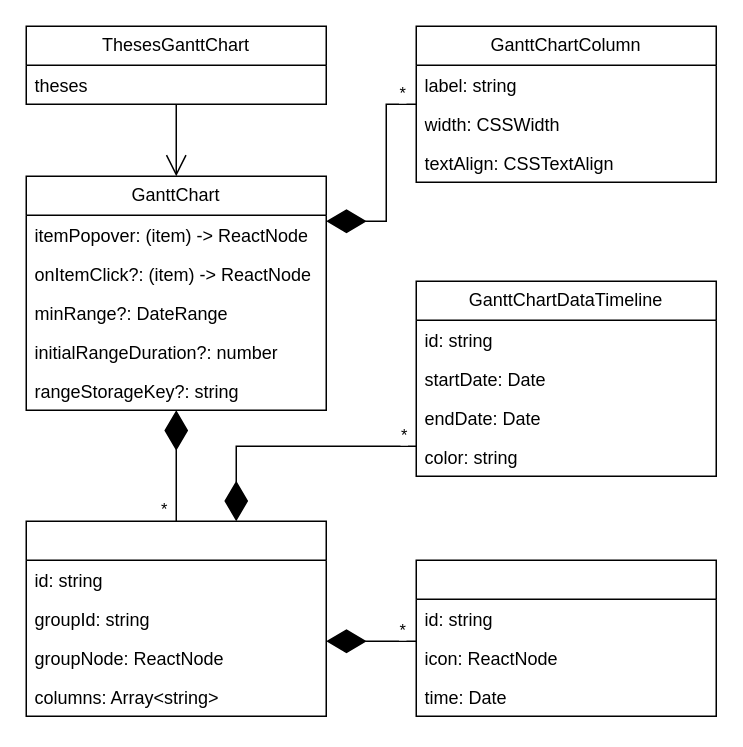
Some shapes in this 743 by 747 pixel diagram are drawn without their labels. The shapes that lost their labels are listed below. From the top down, each one's box as (x1, y1, x2, y2) in pixels, then its label:
(25, 520, 326, 716): GanttChartDataElement
(415, 559, 716, 716): GanttChartDataEvent
